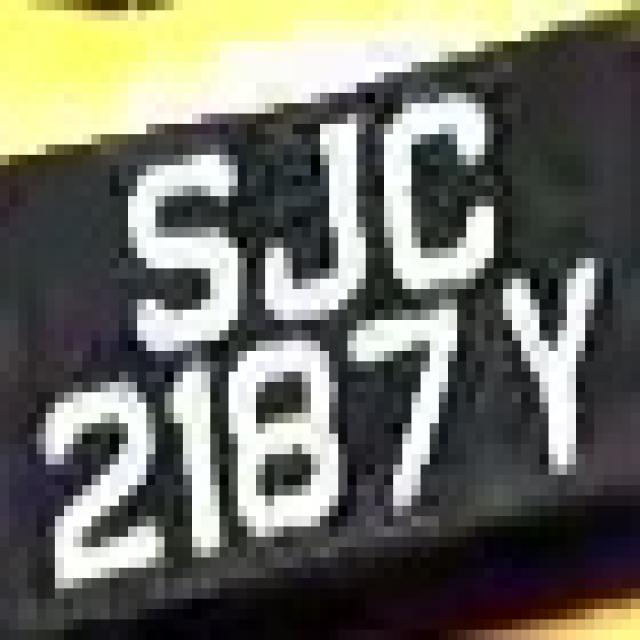1: (165, 289, 238, 588)
2: (9, 351, 174, 609)
7: (329, 300, 466, 558)
8: (228, 309, 356, 536)
C: (375, 73, 494, 300)
J: (247, 72, 366, 330)
S: (128, 114, 247, 361)
Y: (475, 238, 622, 526)
